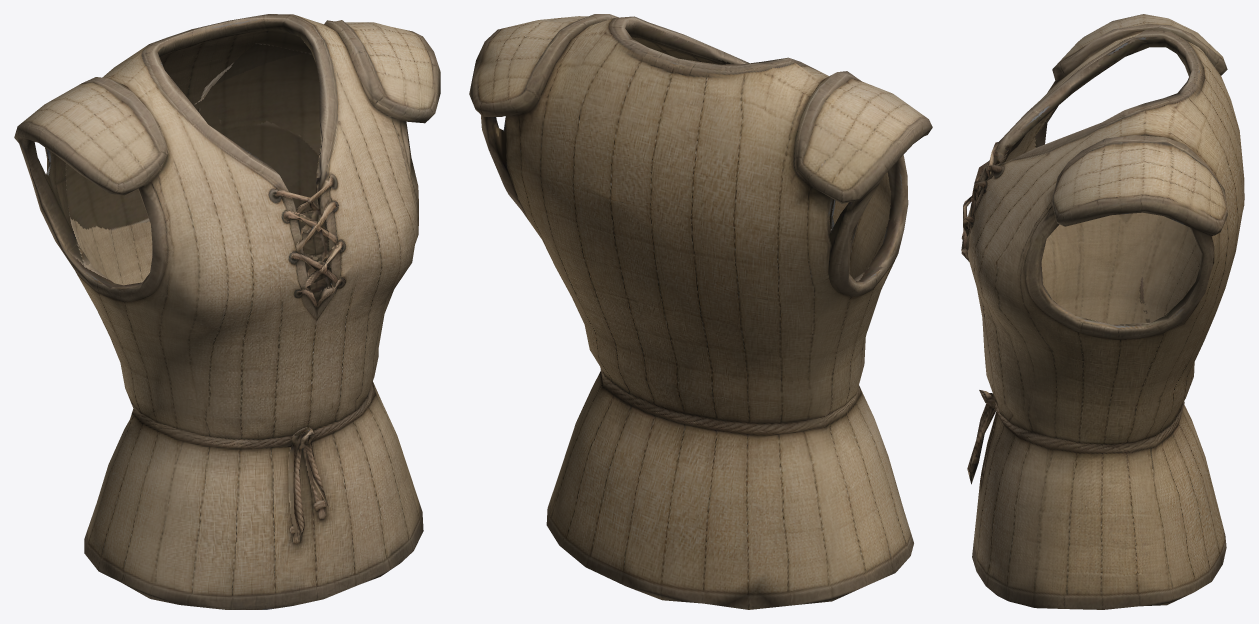
Rendered from Prop_Armor_Cloth.fbx.
The picture shows the model from 3 angles, left to right: view 1: azimuth 30°, elevation 25°; view 2: azimuth 150°, elevation 25°; view 3: azimuth 270°, elevation 25°; orthographic projection. The views are drawn at different scales.
Visible parts, largest first — view 1: texture_mapping; view 2: texture_mapping; view 3: texture_mapping.
Boxes of the visible parts, x1,y1,x2,y2 form: texture_mapping: (14,14,440,609); texture_mapping: (469,14,932,609); texture_mapping: (961,14,1244,609).
Size of the model in its own units: 0.8222 by 0.5252 by 1.
1 material, 1 textured.
